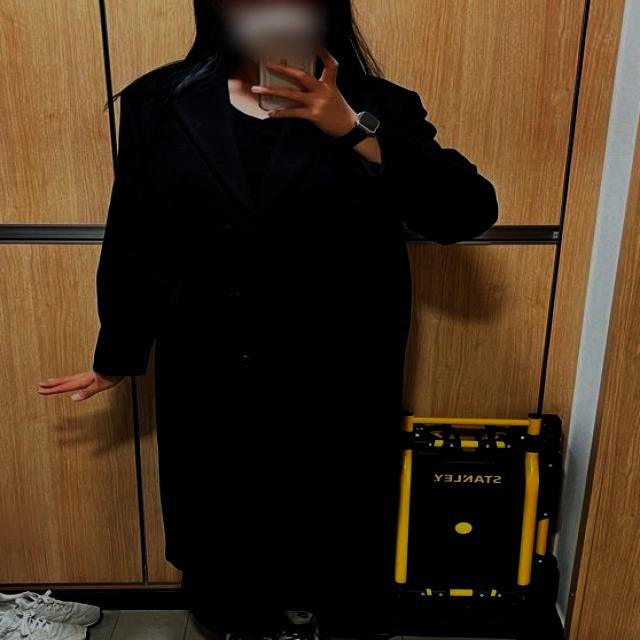coat: (92, 61, 500, 595)
